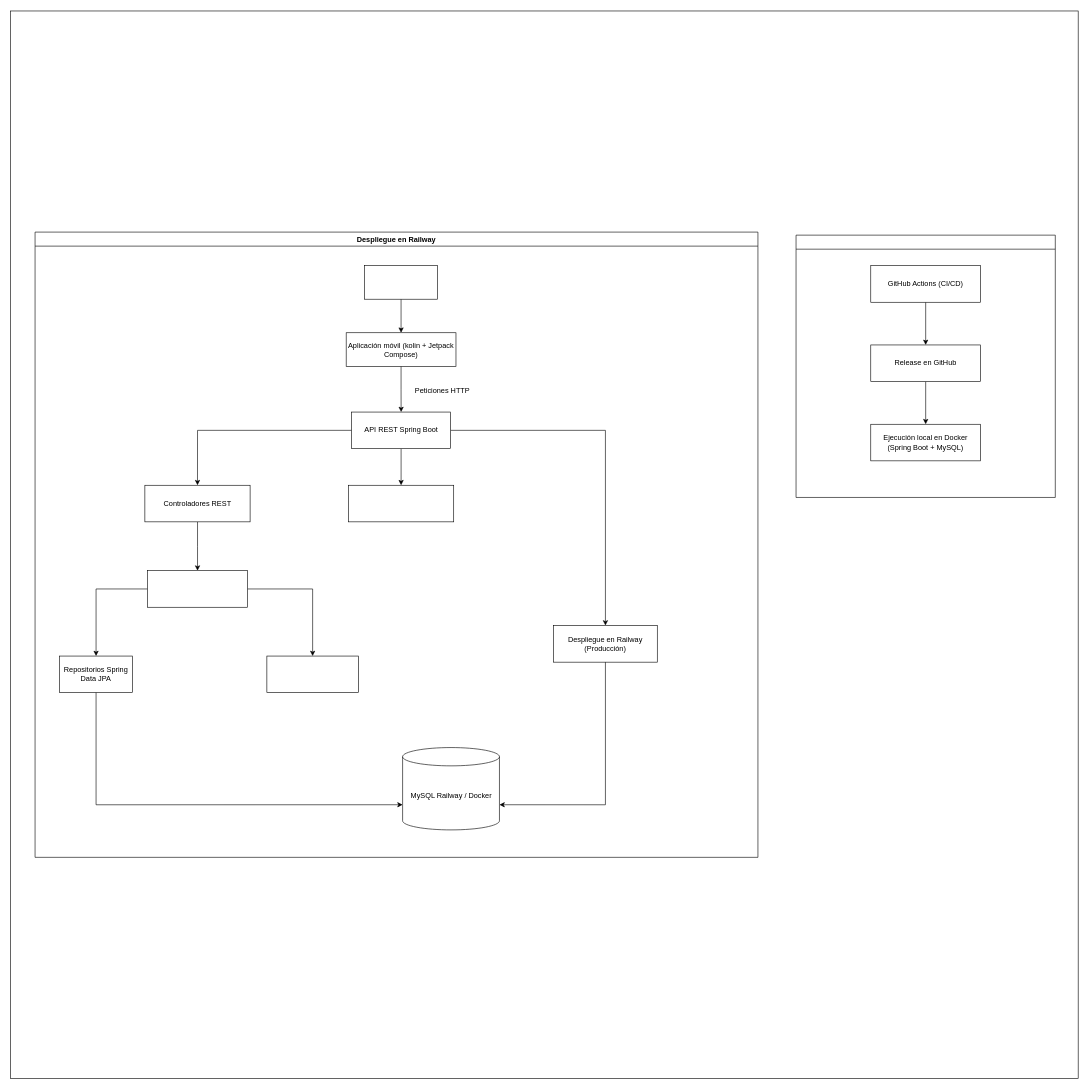
This 1089x1089 diagram has some shape labels left out. The shapes that lost their labels are listed below. From the top down, each one's centre as x and y in pixels, then its label:
At point 401,282: "Usuario".
At point 925,366: "Release local".
At point 401,503: "Seguridad JWT + BCrypt".
At point 197,588: "Servicios (Lógica de negocio)".
At point 312,674: "Recuperación y verificación de correo (SMTP / Mock)".
